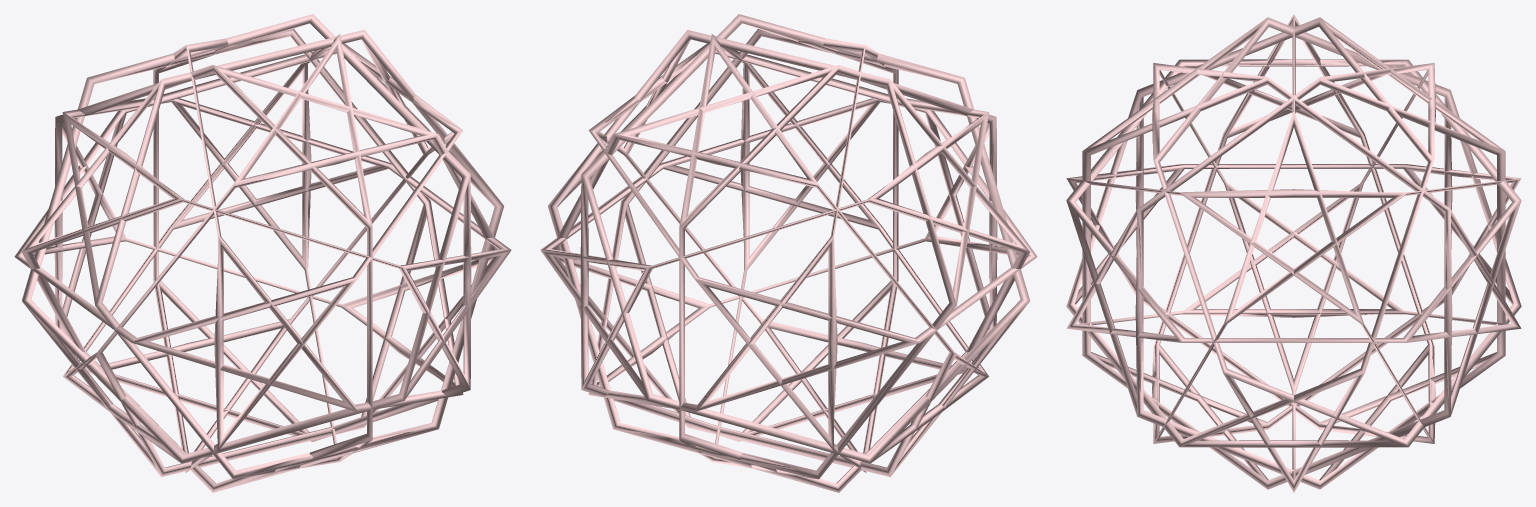
File: TruncatedGreatIcosahedron2.glb
3 renders of one model, left to right at view 1: azimuth 30°, elevation 25°; view 2: azimuth 150°, elevation 25°; view 3: azimuth 270°, elevation 25°, orthographic. The views are drawn at different scales.
Parts seen in each view (by area): view 1: TruncatedGreatIcosahedron; view 2: TruncatedGreatIcosahedron; view 3: TruncatedGreatIcosahedron.
Part boxes in pixels (<box>): TruncatedGreatIcosahedron: <box>14,14,511,492</box>; TruncatedGreatIcosahedron: <box>540,14,1037,492</box>; TruncatedGreatIcosahedron: <box>1066,14,1521,492</box>.
Bounding box in the file's own units: 2.04 × 2.04 × 2.04.
